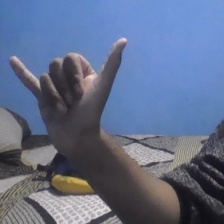Y: (5, 35, 132, 159)
